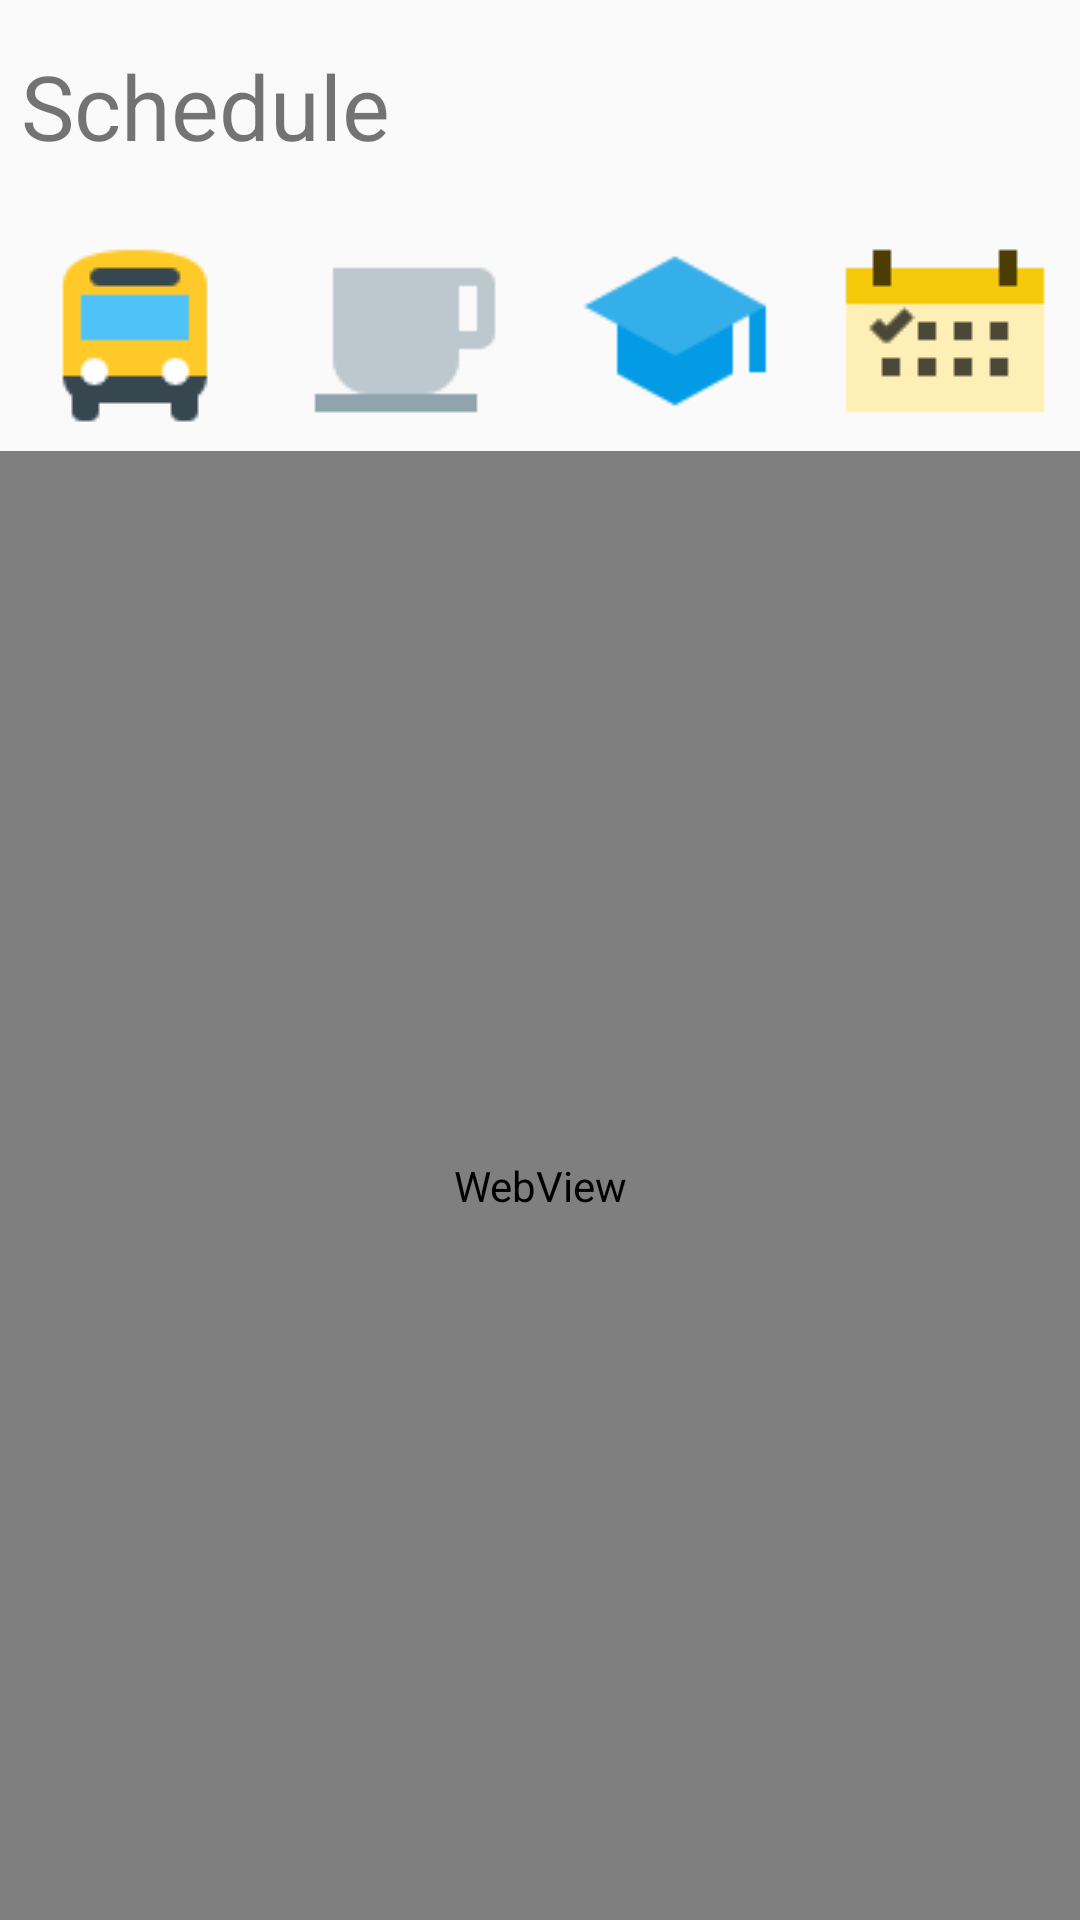

Icons on this 1080 × 1920 Android screen, each with its box as (x1, y1, x2, y2):
bus: (62, 249, 208, 422)
calendar: (845, 249, 1045, 412)
mess: (314, 268, 495, 413)
